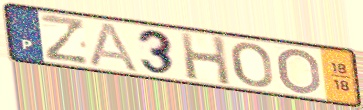3: (136, 27, 182, 78)
A: (87, 21, 141, 74)
H: (178, 30, 234, 88)
O: (276, 47, 323, 96), (228, 41, 275, 89)
Z: (39, 12, 91, 66)
